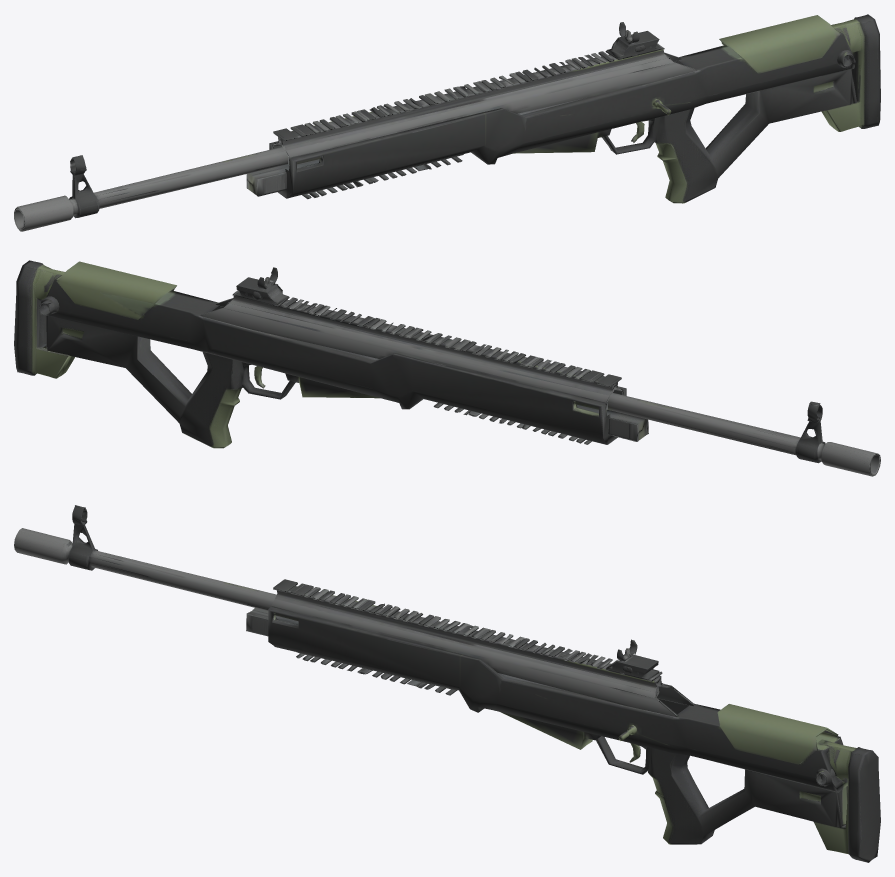
The model's file is dmr_warden.glb.
3 views of the same model, one above another, from view 1: azimuth 30°, elevation 25°; view 2: azimuth 150°, elevation 25°; view 3: azimuth 330°, elevation 25° (orthographic).
Bounding box in the file's own units: 0.9575 × 0.2017 × 0.0781.
1 material, 1 textured.
